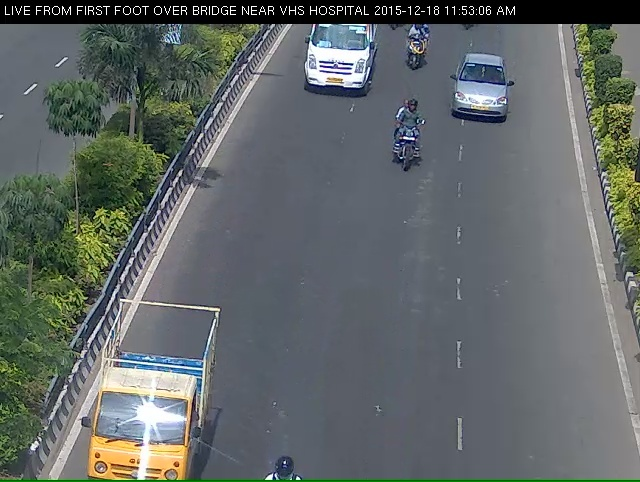Bus: (304, 22, 371, 107)
Car: (67, 323, 208, 481), (454, 55, 507, 134)
Person: (384, 113, 428, 188), (408, 21, 430, 75)
